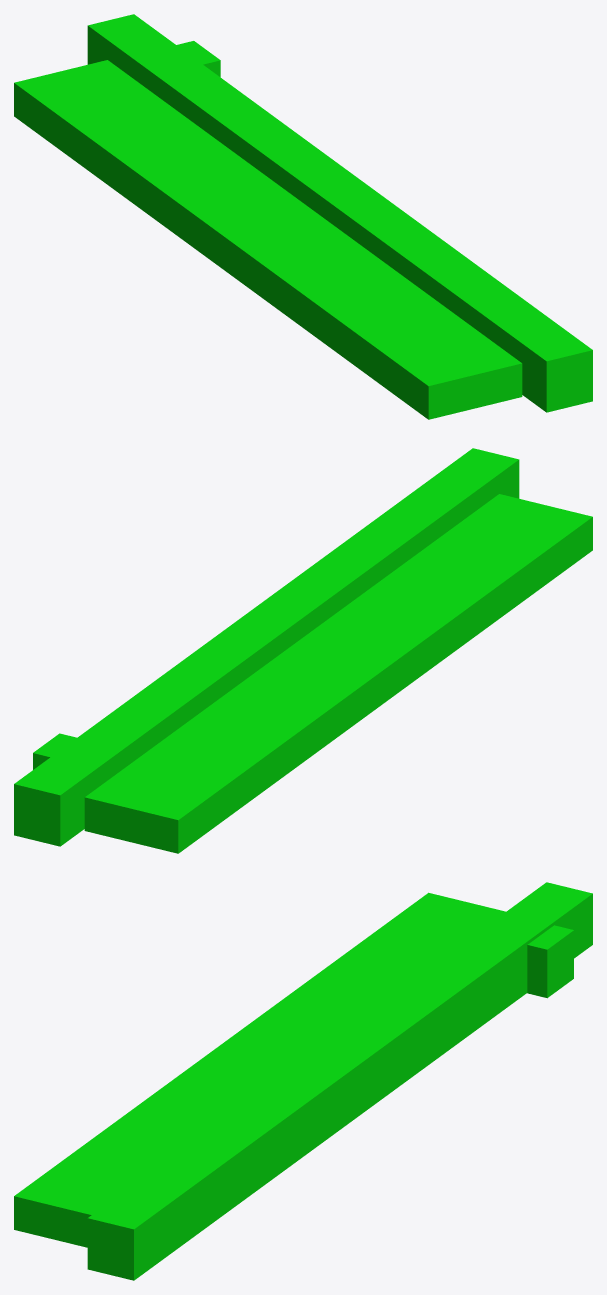
The model's file is linear_axis.dae.
3 renders of one model, top to bottom at view 1: azimuth 30°, elevation 25°; view 2: azimuth 150°, elevation 25°; view 3: azimuth 330°, elevation 25°, orthographic.
Parts seen in each view (by area): view 1: Tez Linear Axis; view 2: Tez Linear Axis; view 3: Tez Linear Axis.
Part boxes in pixels (bbox=[...]): Tez Linear Axis: bbox=[14, 14, 592, 419]; Tez Linear Axis: bbox=[14, 448, 592, 853]; Tez Linear Axis: bbox=[14, 882, 592, 1280].
Bounding box in the file's own units: 2.46 × 12 × 0.74.
